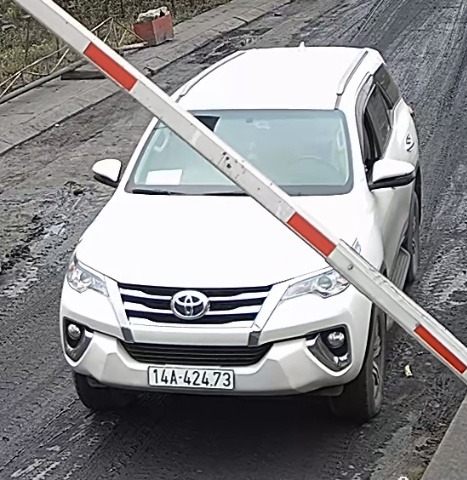vehicle plate: (144, 359, 239, 395)
